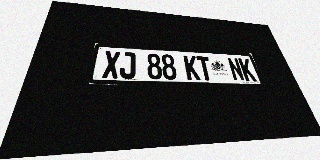8: (147, 53, 163, 79), (161, 54, 177, 80)
J: (119, 52, 135, 79)
K: (183, 55, 201, 80), (238, 58, 257, 81)
N: (227, 58, 245, 81)
T: (196, 56, 214, 80)
X: (102, 51, 120, 78)
